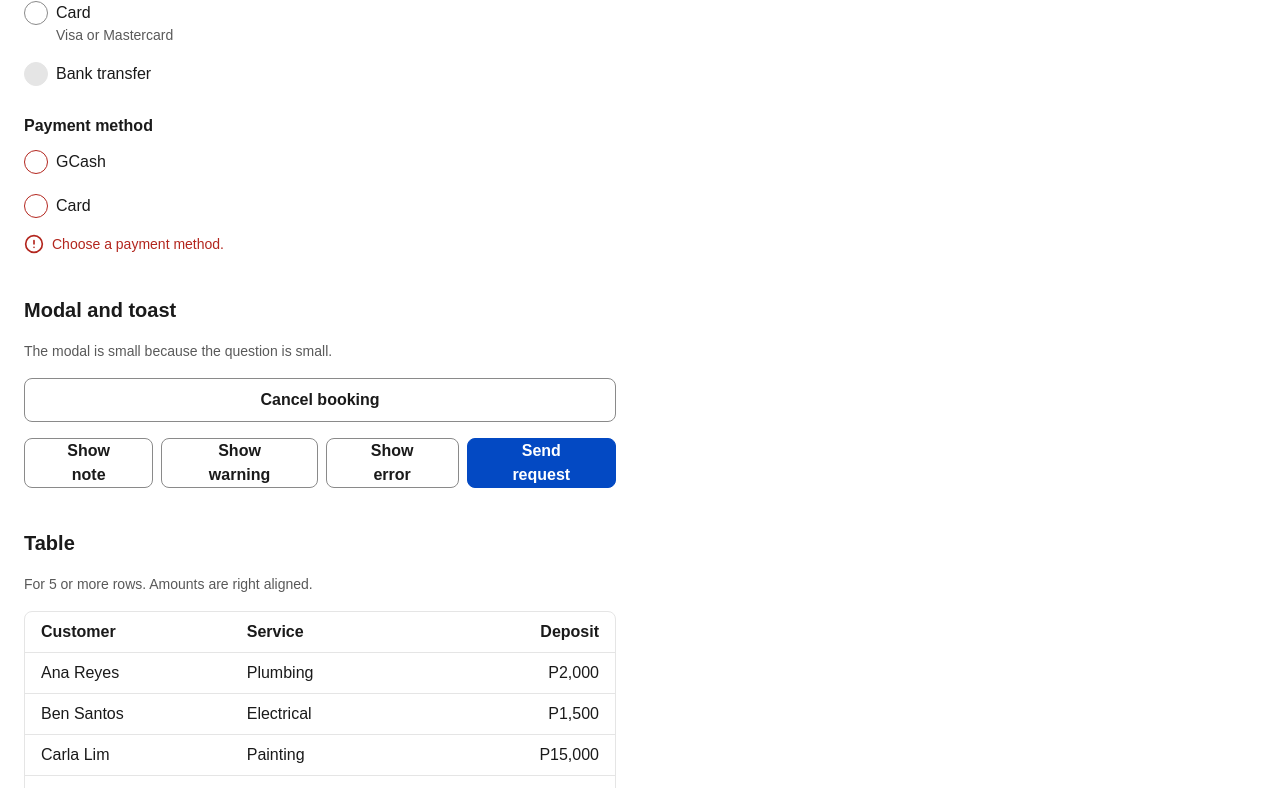
Test: component gallery (/dev/components) › the modal opens and closes from the page
(page scrolled)
Click the button "Cancel booking" at (320, 400), box [24, 378, 616, 422]
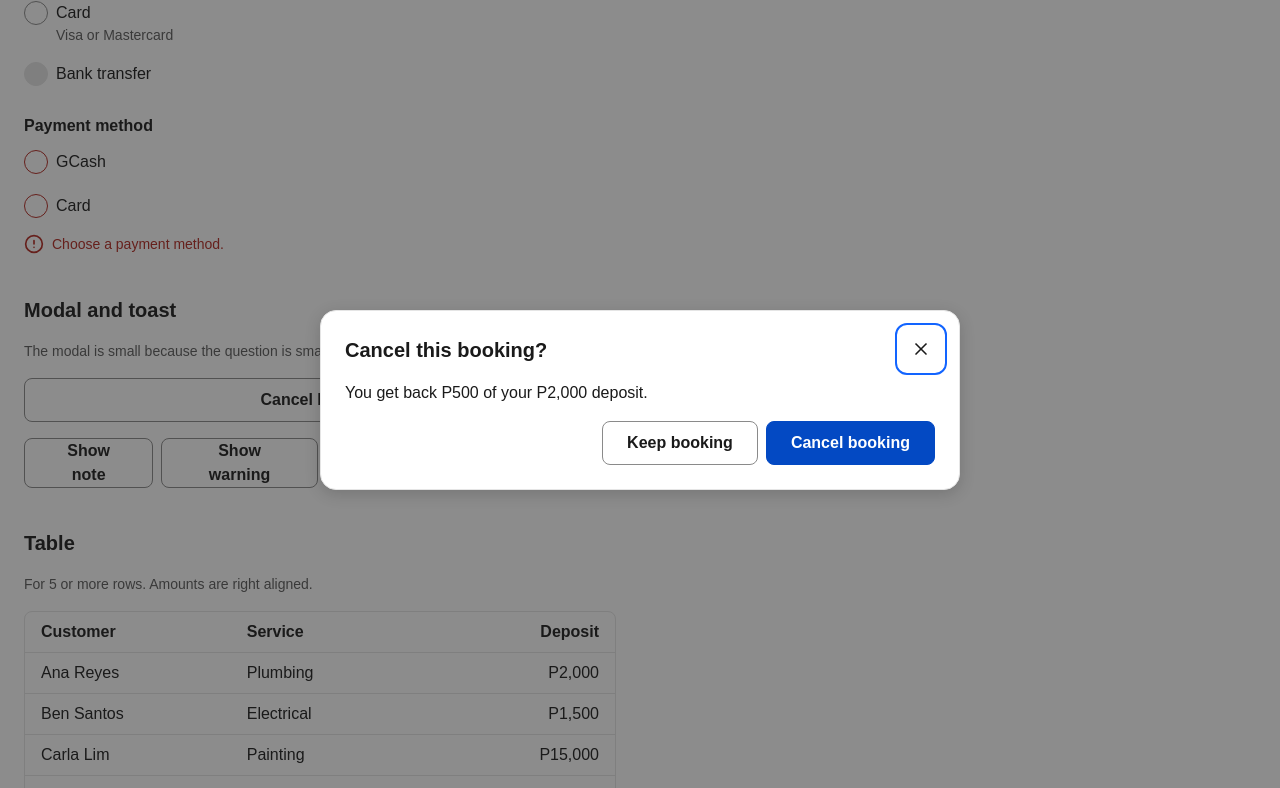
Expected: the dialog "Cancel this booking?" is shown, [320, 310, 960, 490]
Click the button named "Close" at (921, 349), box [899, 327, 943, 371]
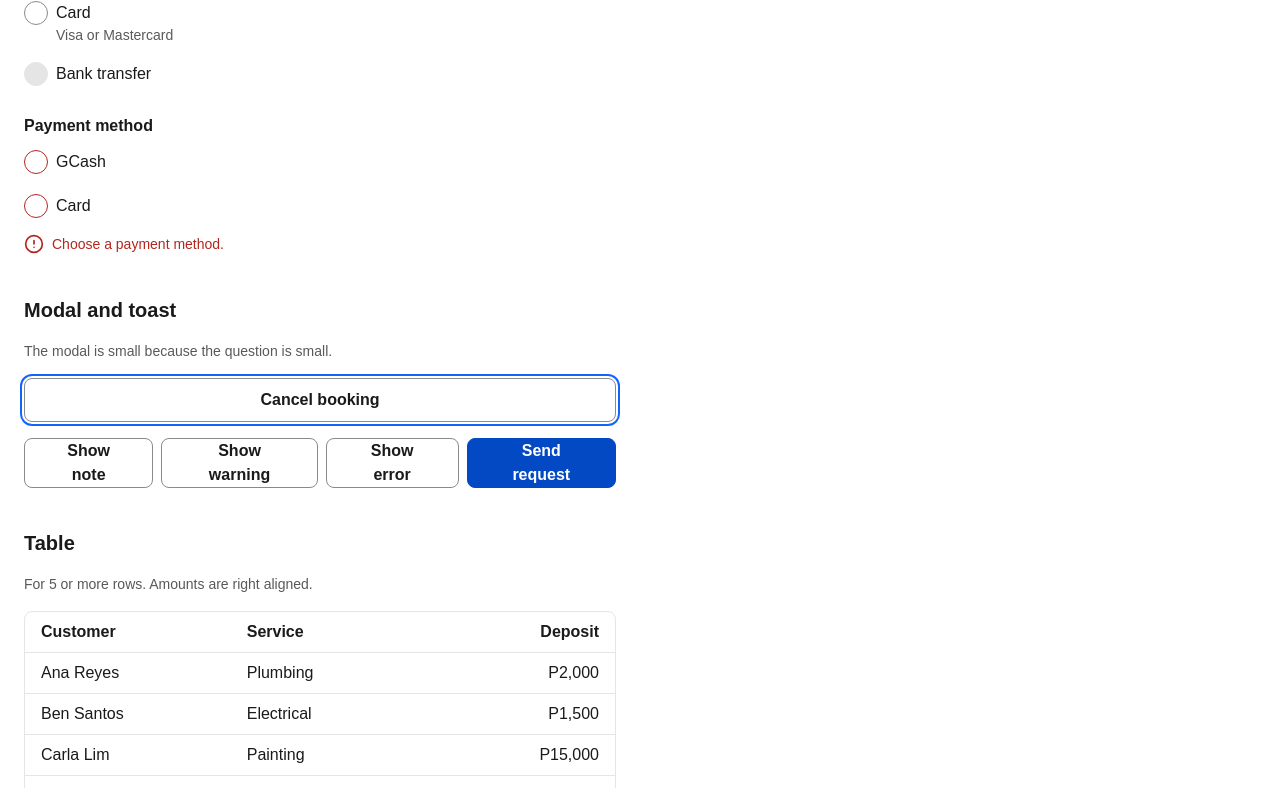
Expected: the dialog is gone
